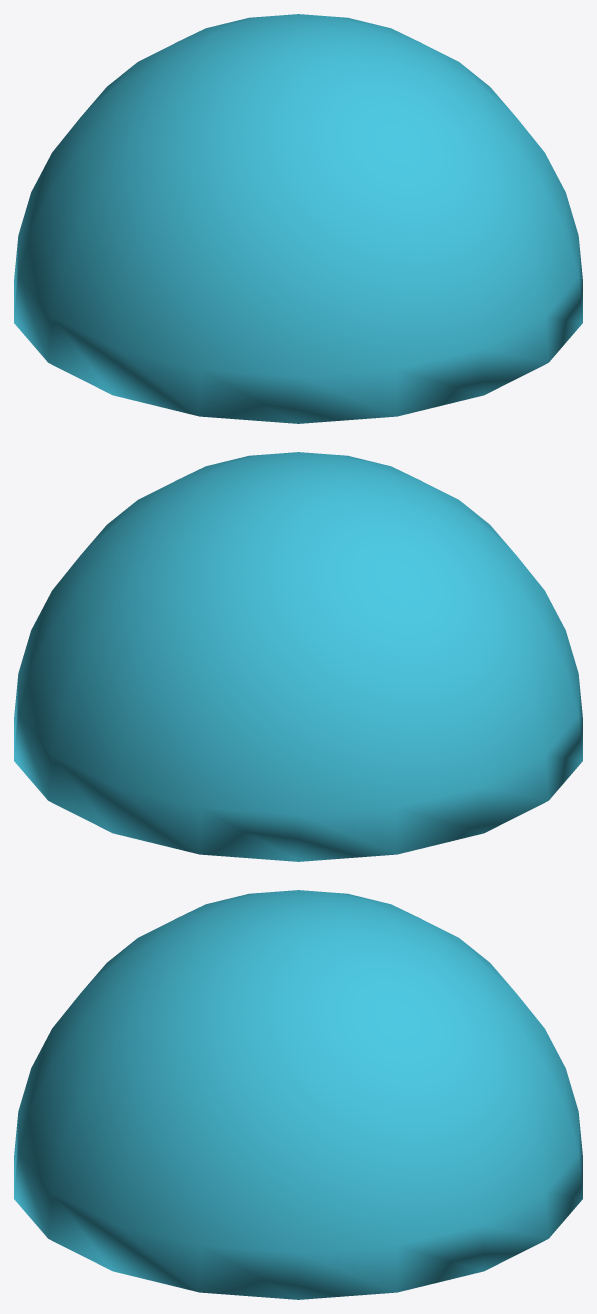
Rendered from door.dae.
The picture shows the model from 3 angles, top to bottom: view 1: azimuth 30°, elevation 25°; view 2: azimuth 150°, elevation 25°; view 3: azimuth 270°, elevation 25°; orthographic projection.
Parts seen in each view (by area): view 1: globe; view 2: globe; view 3: globe.
Boxes of the visible parts, bbox=[...] form: globe: bbox=[14, 14, 582, 423]; globe: bbox=[14, 452, 582, 861]; globe: bbox=[14, 890, 582, 1299].
Size of the model in its own units: 1201 by 600 by 1183.
